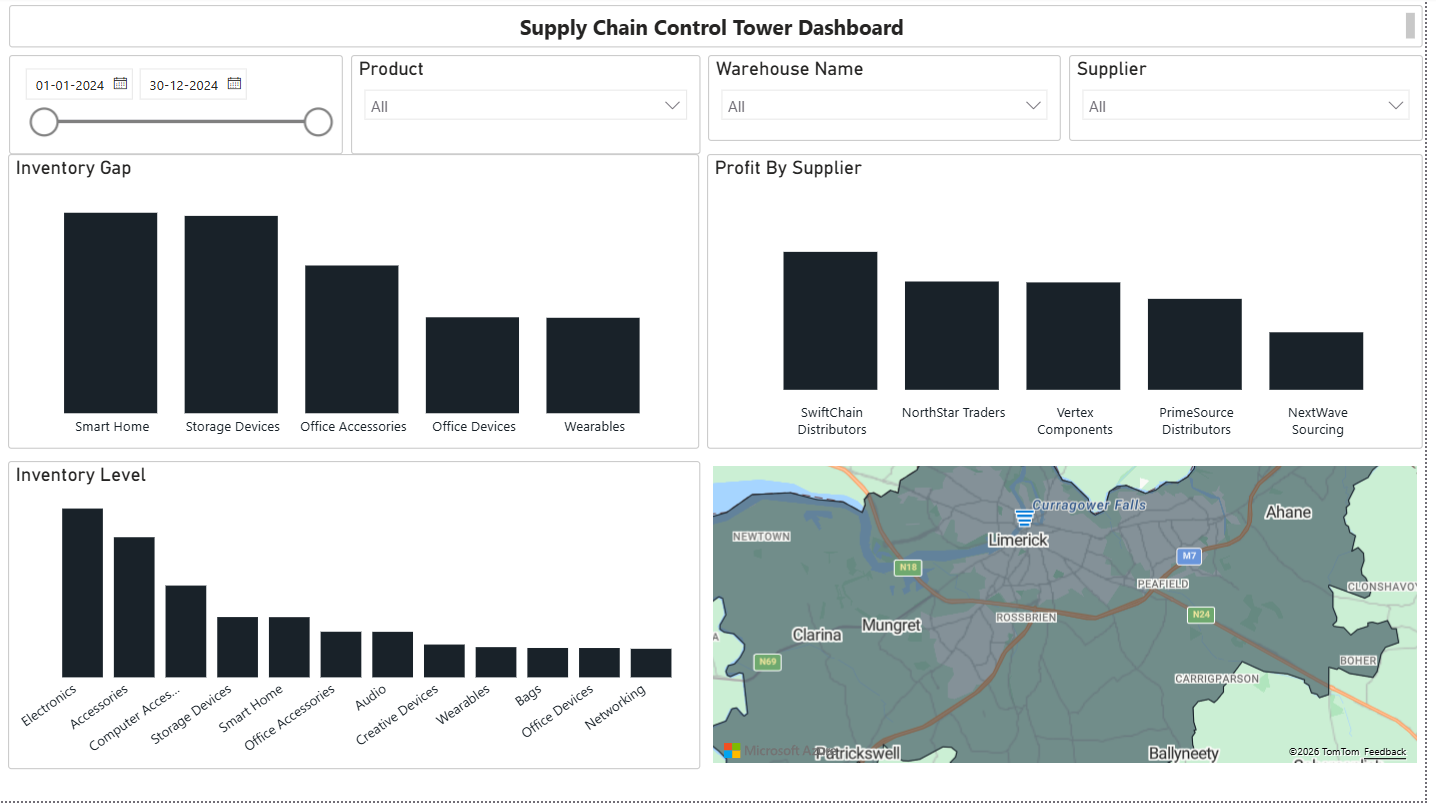

What the dashboard file says about the page in this screenshot:
{"tool":"powerbi","page":{"name":"Page 2","canvas":[1280,720],"ordinal":1},"visuals":[{"type":"clusteredColumnChart","title":"Inventory Gap","fields":{"Category":["dim_product.category"],"Y":["fact_supply_chain.Inventory Gap"]},"box":[10.7,140.6,618.8,264.2],"z":0},{"type":"textbox","box":[11.6,7.2,1266.3,37.6],"z":1000},{"type":"slicer","title":"Warehouse Name","fields":{"Values":["dim_warehouse.warehouse_name"]},"box":[637.6,51.9,316.1,77],"z":3000},{"type":"slicer","title":"Product","fields":{"Values":["dim_product.product_name"]},"box":[317.9,51.9,312.5,88.7],"z":4000},{"type":"slicer","title":"Supplier","fields":{"Values":["dim_supplier.supplier_name"]},"box":[960.5,52,317.4,77],"z":5000},{"type":"columnChart","title":"Profit By Supplier","fields":{"Category":["dim_supplier.supplier_name"],"Y":["fact_supply_chain.Profit"]},"box":[636.7,140.6,641.2,264.2],"z":6000},{"type":"columnChart","title":"Inventory Level","fields":{"Category":["dim_product.category"],"Y":["Sum(fact_supply_chain.inventory_level)"]},"box":[10.4,415.2,620.2,275.8],"z":6001},{"type":"azureMap","fields":{"Category":["dim_warehouse.warehouse_city"]},"box":[637,415,641,276],"z":6002},{"type":"slicer","fields":{"Values":["dim_date.full_date"]},"box":[11.6,51.9,299.1,88.7],"z":6003}]}

Visuals, with their boxes in screenshot pixels (x1, y1, x2, y2), scaled from the page's 1280x720 canvas onto the 1436x807 screenshot:
"Inventory Gap" clusteredColumnChart: <bbox>12, 158, 706, 454</bbox>
textbox: <bbox>13, 8, 1434, 50</bbox>
"Warehouse Name" slicer: <bbox>715, 58, 1070, 144</bbox>
"Product" slicer: <bbox>357, 58, 707, 158</bbox>
"Supplier" slicer: <bbox>1078, 58, 1434, 145</bbox>
"Profit By Supplier" columnChart: <bbox>714, 158, 1434, 454</bbox>
"Inventory Level" columnChart: <bbox>12, 465, 707, 774</bbox>
azureMap - dim_warehouse.warehouse_city: <bbox>715, 465, 1434, 774</bbox>
slicer - dim_date.full_date: <bbox>13, 58, 349, 158</bbox>
